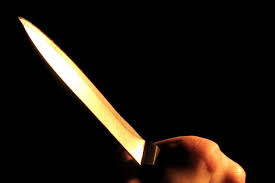knife: (14, 11, 203, 183)
